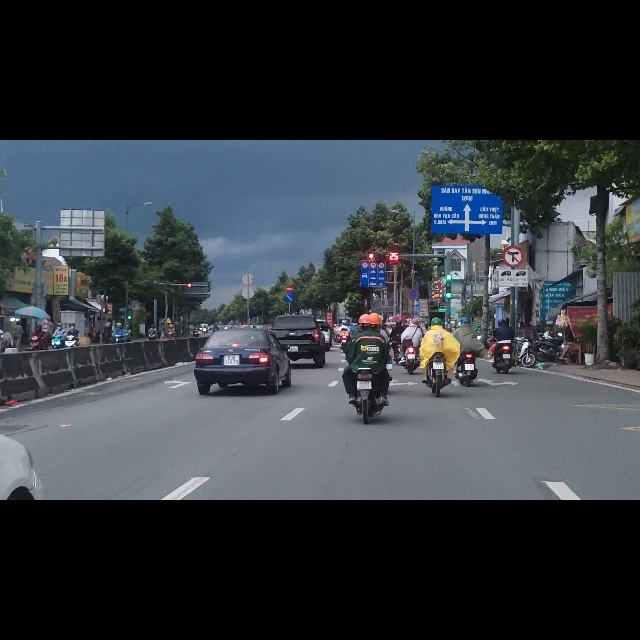bien_chi_dan: (501, 186, 525, 226), (360, 228, 385, 261), (408, 264, 418, 281), (285, 257, 294, 272), (285, 274, 294, 289), (362, 216, 368, 227), (378, 217, 384, 228), (370, 217, 376, 227)
